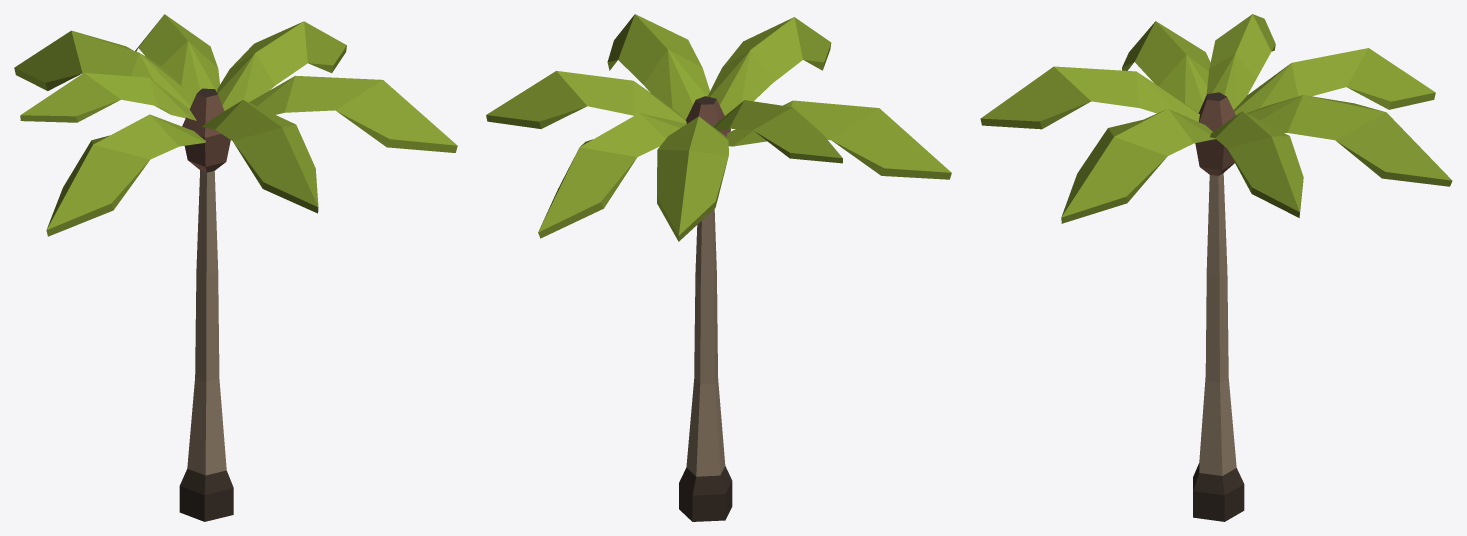
Rendered from Palm Tree.glb.
3 renders of one model, left to right at view 1: azimuth 30°, elevation 25°; view 2: azimuth 150°, elevation 25°; view 3: azimuth 270°, elevation 25°, orthographic.
Parts seen in each view (by area): view 1: Cylinder.001_Cylinder.002, Cube.015_Cube.021, Cube.014, Cube.016_Cube.032, Cube.013_Cube.004, Cube.012_Cube.003, Cube.017_Cube.033, Cube.011_Cube.001; view 2: Cylinder.001_Cylinder.002, Cube.011_Cube.001, Cube.014, Cube.013_Cube.004, Cube.012_Cube.003, Cube.015_Cube.021, Cube.016_Cube.032, Cube.017_Cube.033; view 3: Cylinder.001_Cylinder.002, Cube.011_Cube.001, Cube.015_Cube.021, Cube.016_Cube.032, Cube.013_Cube.004, Cube.012_Cube.003, Cube.014, Cube.017_Cube.033.
Part boxes in pixels (x1=…): Cylinder.001_Cylinder.002: x1=179, y1=88, x2=233, y2=521; Cube.015_Cube.021: x1=249, y1=75, x2=457, y2=152; Cube.014: x1=46, y1=114, x2=205, y2=236; Cube.016_Cube.032: x1=202, y1=100, x2=318, y2=213; Cube.013_Cube.004: x1=14, y1=30, x2=192, y2=118; Cube.012_Cube.003: x1=217, y1=21, x2=346, y2=110; Cube.017_Cube.033: x1=20, y1=72, x2=196, y2=122; Cube.011_Cube.001: x1=135, y1=14, x2=219, y2=101; Cylinder.001_Cylinder.002: x1=679, y1=96, x2=732, y2=521; Cube.011_Cube.001: x1=538, y1=113, x2=686, y2=238; Cube.014: x1=726, y1=100, x2=951, y2=179; Cube.013_Cube.004: x1=657, y1=116, x2=728, y2=241; Cube.012_Cube.003: x1=486, y1=71, x2=686, y2=128; Cube.015_Cube.021: x1=607, y1=14, x2=709, y2=118; Cube.016_Cube.032: x1=707, y1=17, x2=831, y2=115; Cube.017_Cube.033: x1=713, y1=100, x2=842, y2=163; Cylinder.001_Cylinder.002: x1=1193, y1=92, x2=1244, y2=521; Cube.011_Cube.001: x1=1247, y1=95, x2=1452, y2=186; Cube.015_Cube.021: x1=1061, y1=108, x2=1215, y2=223; Cube.016_Cube.032: x1=980, y1=66, x2=1199, y2=129; Cube.013_Cube.004: x1=1233, y1=48, x2=1435, y2=115; Cube.012_Cube.003: x1=1210, y1=111, x2=1303, y2=217; Cube.014: x1=1122, y1=21, x2=1210, y2=112; Cube.017_Cube.033: x1=1206, y1=14, x2=1275, y2=109.
Size of the model in its own units: 3.11 by 3.45 by 3.31.
